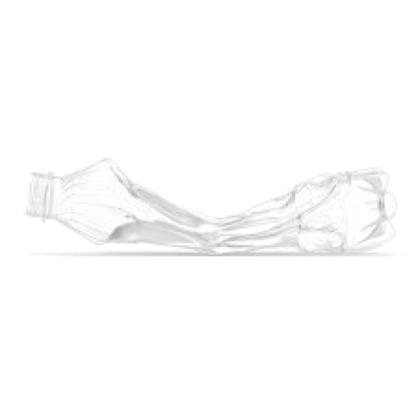bottle: (17, 145, 402, 271)
